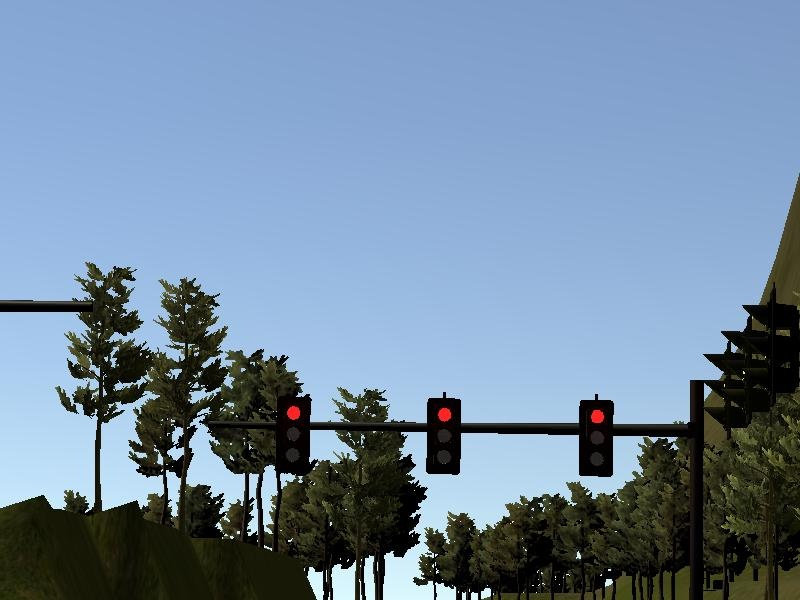traffic_light_red: (245, 396, 681, 478)
